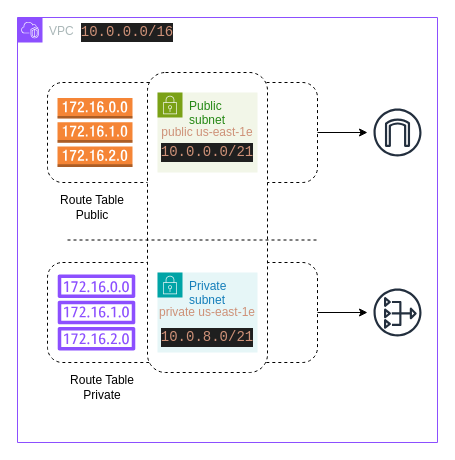
Some shapes in this 455 by 460 pixel diagram are drawn without their labels. Here are the shapes that lost their labels. From the top down, the centre of each, then its label:
At (397,132): "Internet gateway".
At (397,312): "NAT gateway".
